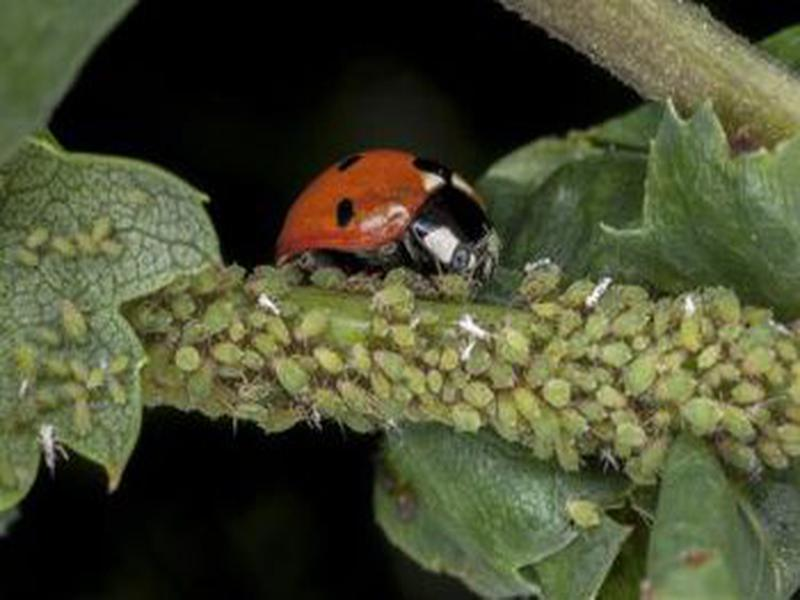Thrips: (257, 144, 509, 284)
